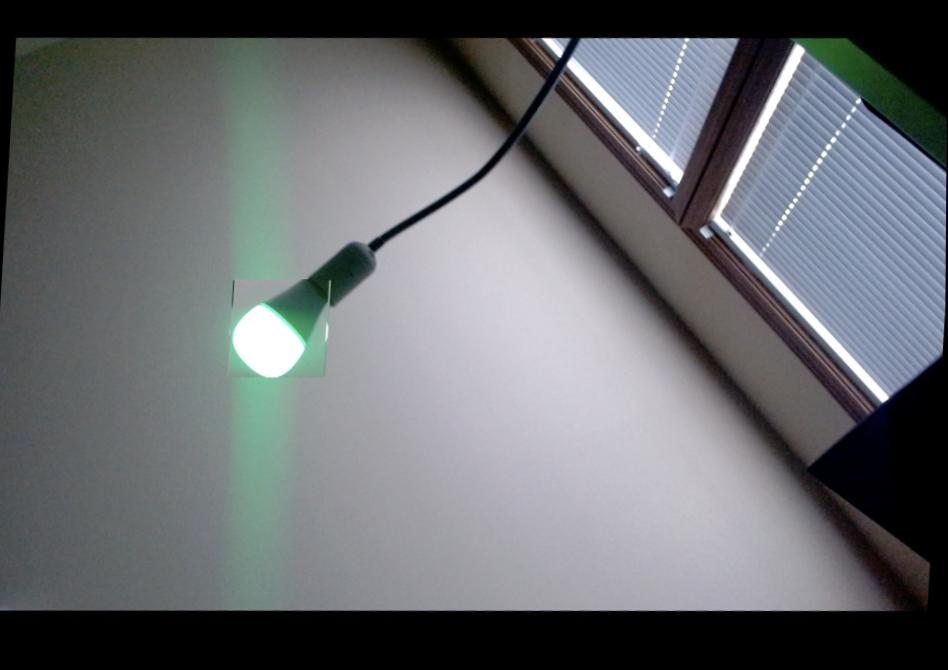TubeLight: (227, 277, 330, 384)
